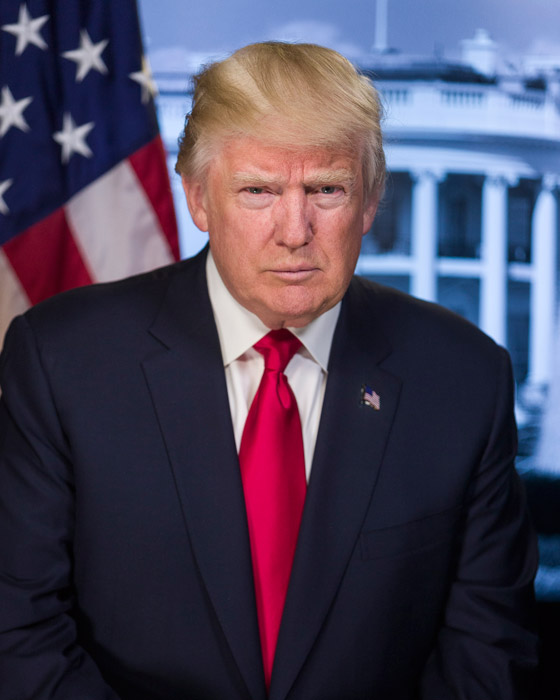male: (1, 42, 541, 700)
